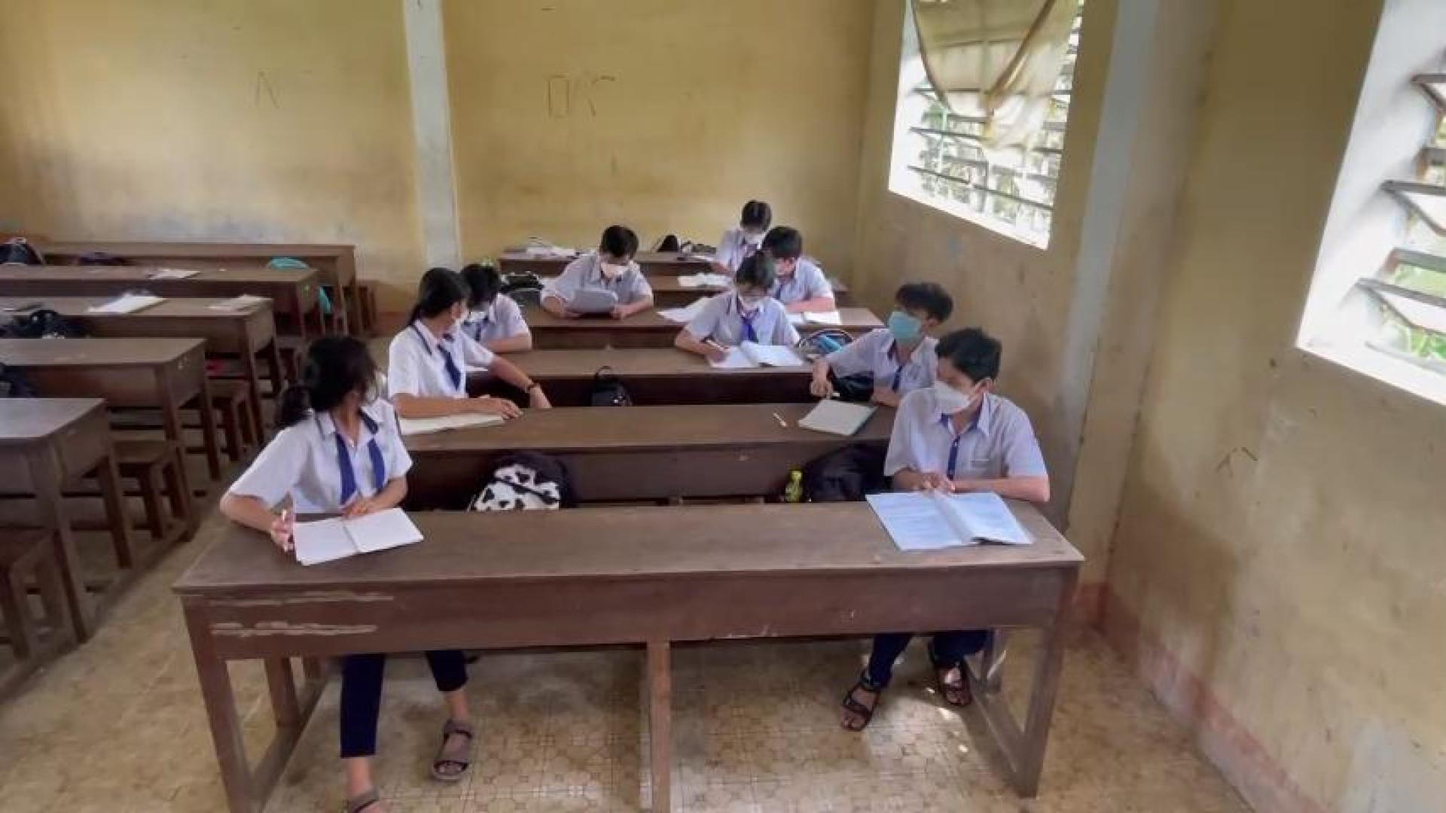Look Around: (281, 329, 398, 422), (379, 247, 476, 349), (920, 320, 1008, 422), (858, 274, 945, 361)
